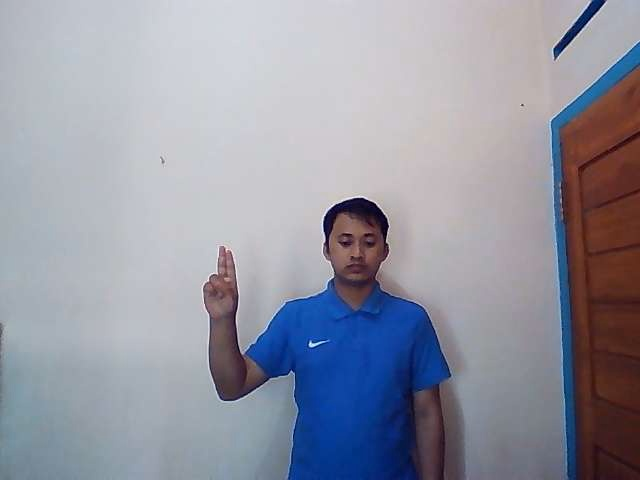U: (202, 246, 239, 317)
